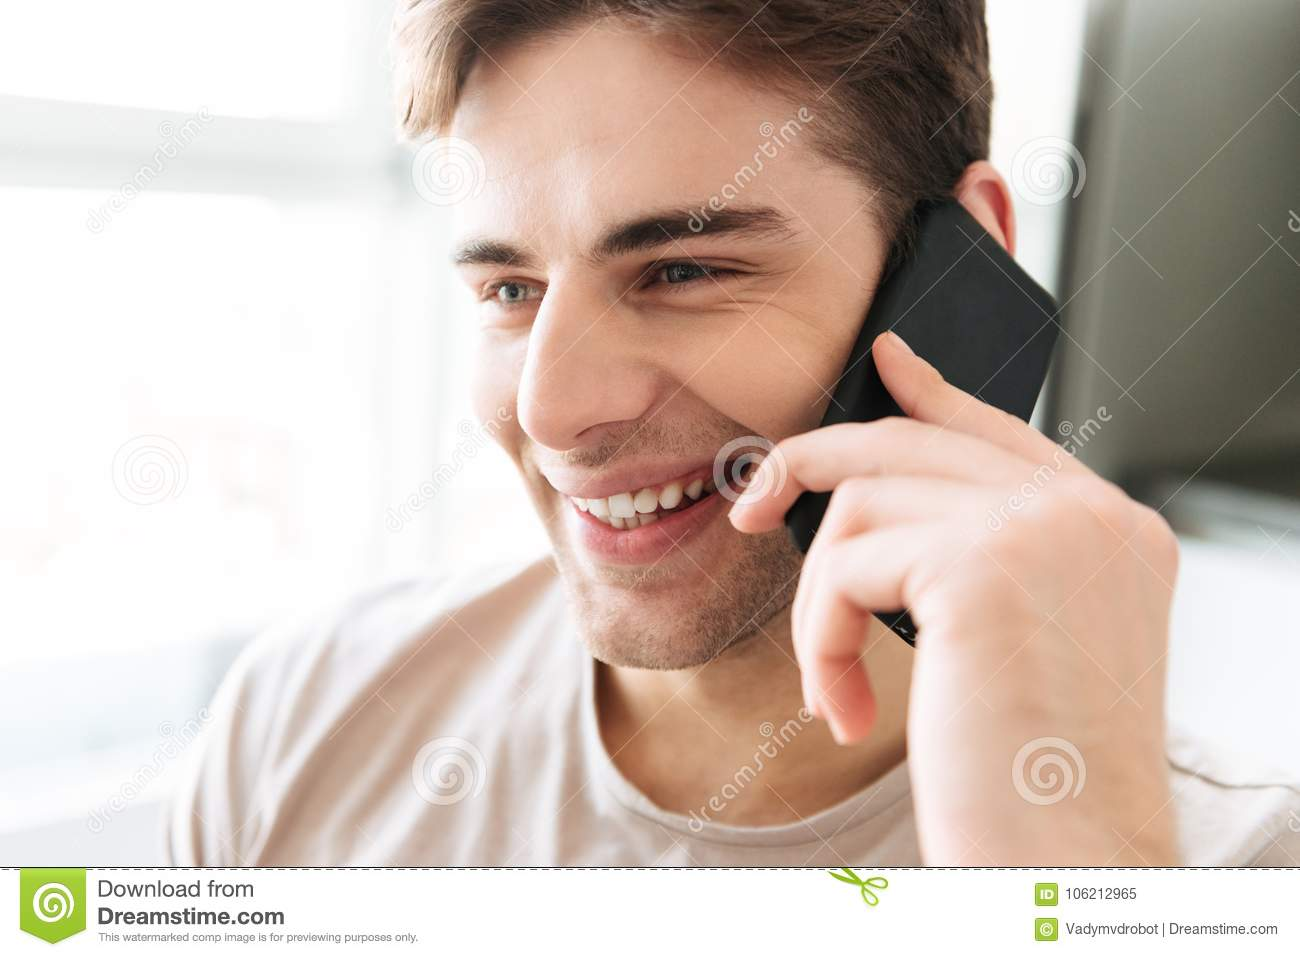phone: (779, 194, 1068, 654)
talk: (451, 195, 1183, 871)
